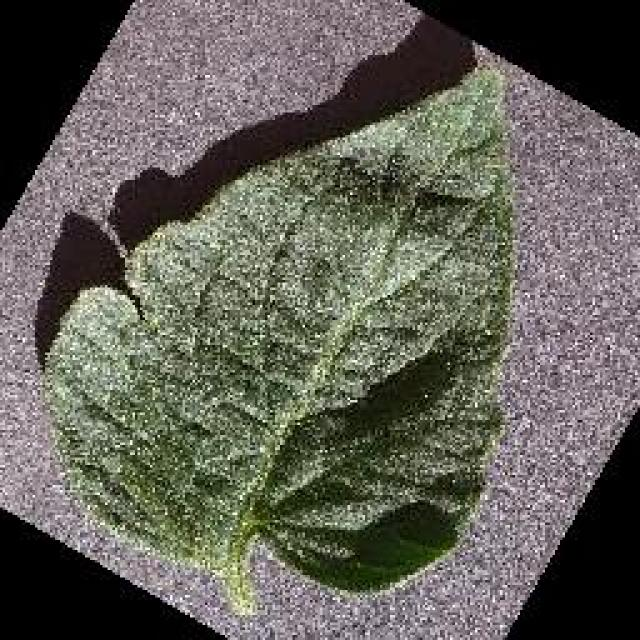Tomato___healthy: (38, 60, 514, 621)
